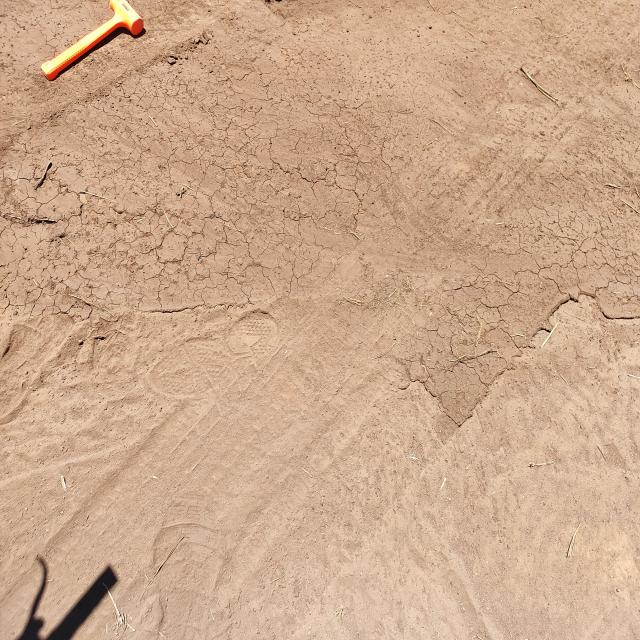Orange_hammer: (40, 0, 144, 82)
